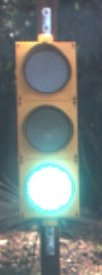Green: (9, 34, 75, 231)
